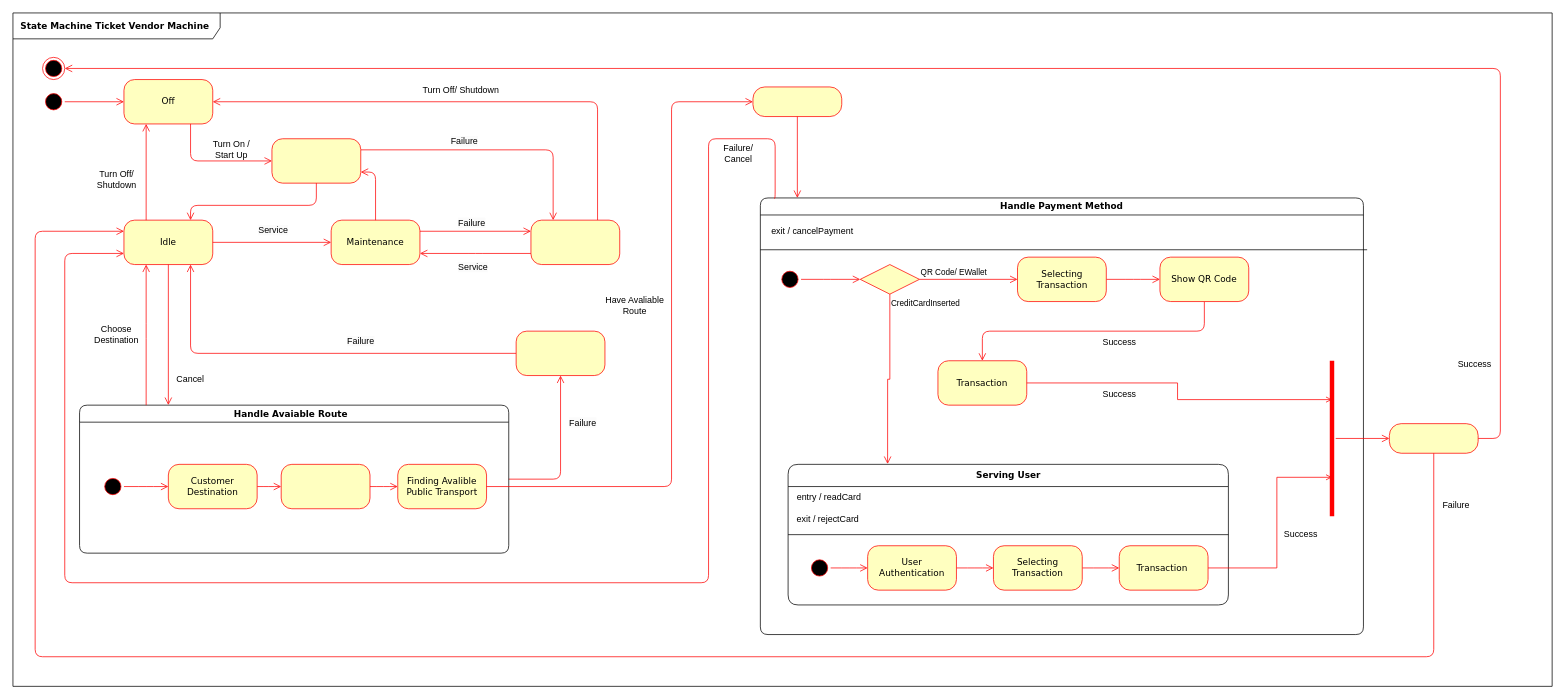
This 1565x699 diagram has some shape labels left out. Here are the shapes that lost their labels. From the top down, the centre of each, then its label:
pixel 797 101: Calculating Fare
pixel 316 160: Self Test
pixel 575 242: Out Of Service
pixel 889 279: Payment
pixel 560 353: No Avaliable Route
pixel 1433 438: Issue Ticket
pixel 325 486: Finding Avaliable Route
